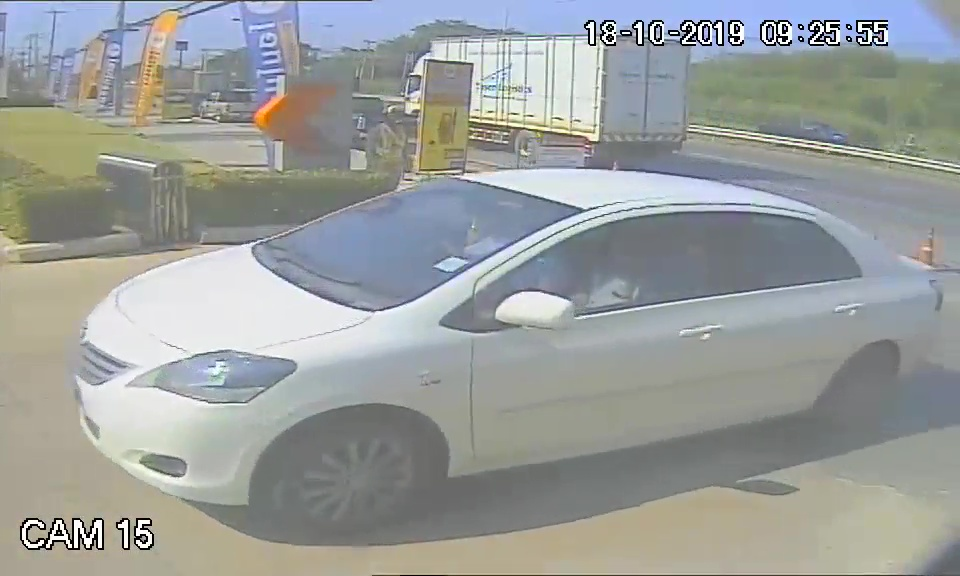sedan: (65, 164, 945, 510)
